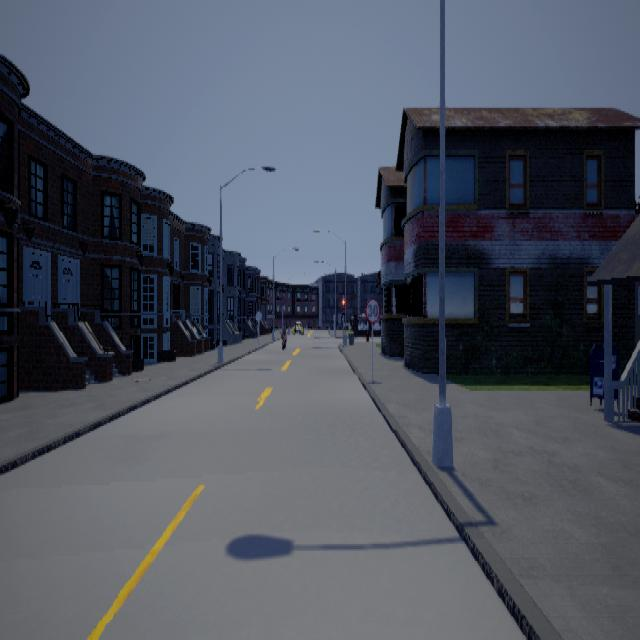motobike: (279, 323, 287, 347)
red_light: (341, 295, 344, 315)
traffic_sign: (364, 296, 379, 322)
